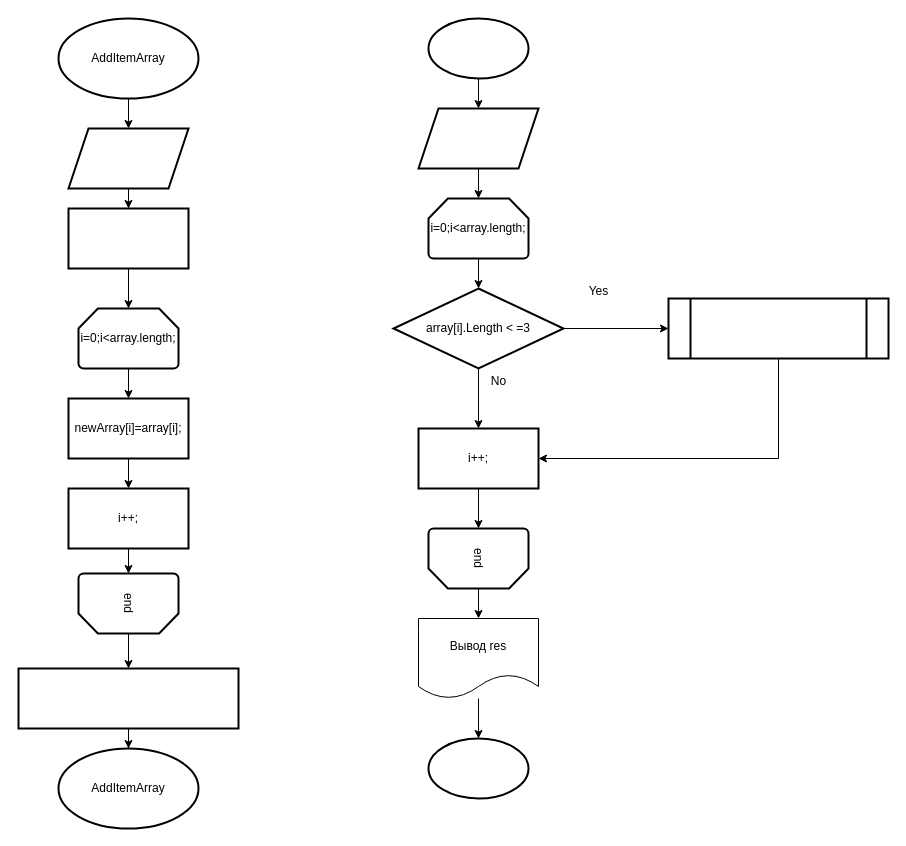
Image size: 906x846. Some labels were removed from this diagram. The box of each missing label's shape, as (x1, y1, x2, y2) in pixels:
array, item: (67, 127, 189, 189)
newArray = [array.Length + 1];: (67, 207, 189, 269)
newArray[array.Length + 1] = item;: (17, 667, 239, 729)
res=AddItemArray(res,array[i]): (667, 297, 889, 359)
конец: (427, 737, 529, 799)
начало: (427, 17, 529, 79)
